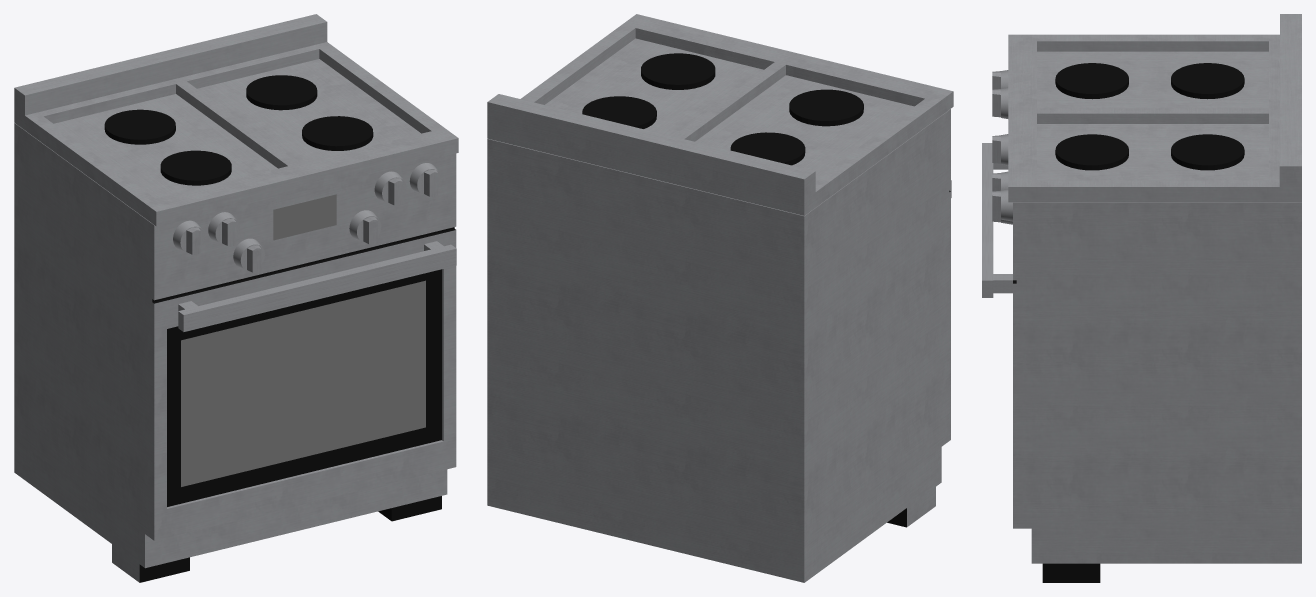
The model's file is RANGE_30.glb.
The picture shows the model from 3 angles, left to right: view 1: azimuth 30°, elevation 25°; view 2: azimuth 150°, elevation 25°; view 3: azimuth 270°, elevation 25°; orthographic projection. The views are drawn at different scales.
Visible parts, largest first — view 1: Range__w611mm; view 2: Range__w611mm; view 3: Range__w611mm.
Part boxes in pixels (x1,y1,x2,y2): Range__w611mm: (14, 14, 458, 582); Range__w611mm: (487, 14, 953, 582); Range__w611mm: (982, 14, 1301, 582).
Bounding box in the file's own units: 761 × 971 × 676.
Materials: 3 (1 with a texture image).
